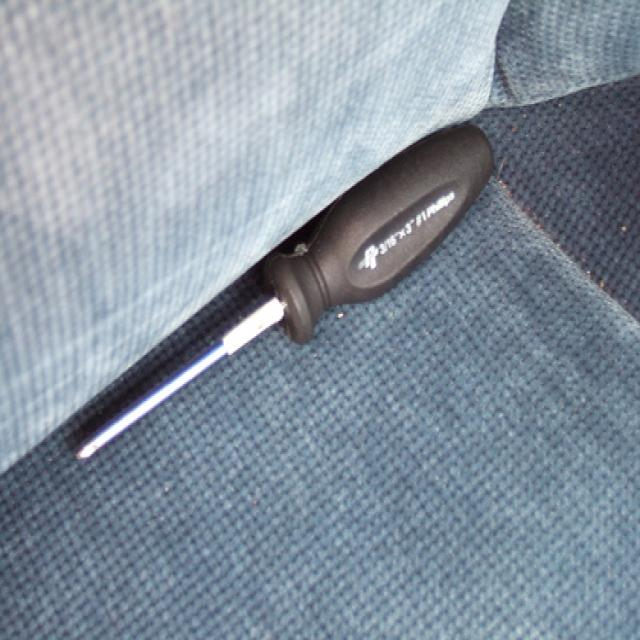screw driver: (13, 121, 620, 516)
